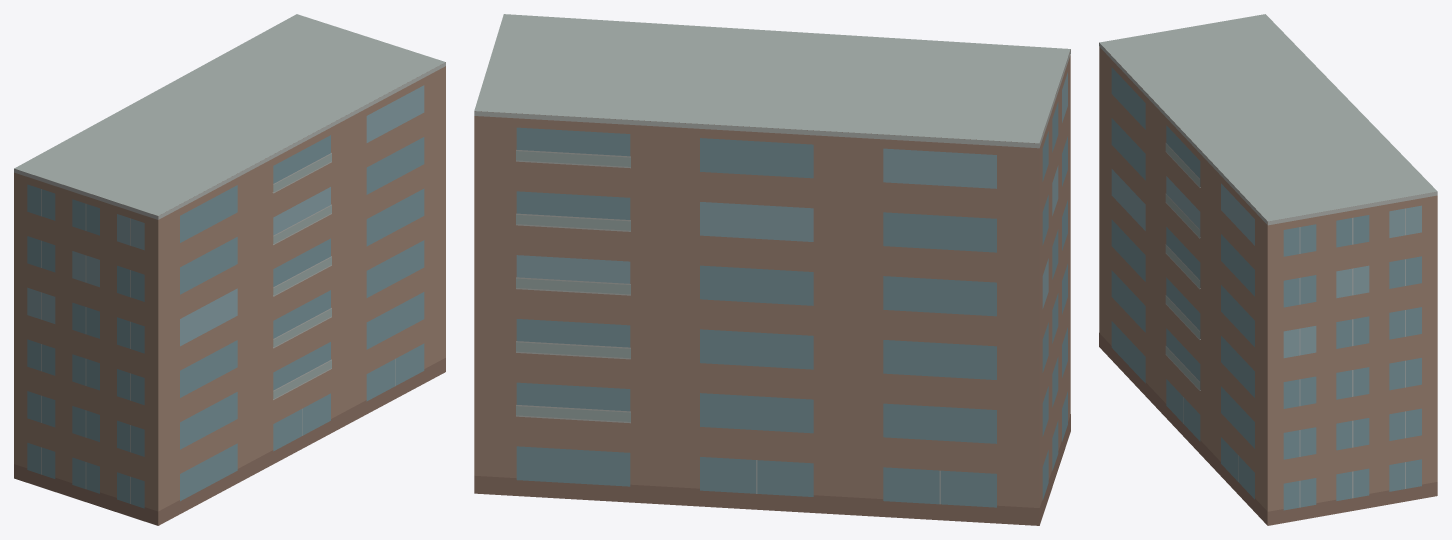
File: survey-upis-32855850.glb
3 views of the same model, side by side, from view 1: azimuth 30°, elevation 25°; view 2: azimuth 150°, elevation 25°; view 3: azimuth 270°, elevation 25° (orthographic). The views are drawn at different scales.
Parts seen in each view (by area): view 1: survey-upis-32855850.tmp; view 2: survey-upis-32855850.tmp; view 3: survey-upis-32855850.tmp.
Part boxes in pixels (x1=…): survey-upis-32855850.tmp: x1=14, y1=14, x2=445, y2=525; survey-upis-32855850.tmp: x1=474, y1=14, x2=1070, y2=525; survey-upis-32855850.tmp: x1=1099, y1=14, x2=1437, y2=525.
Bounding box in the file's own units: 27.79 × 19 × 19.16.
